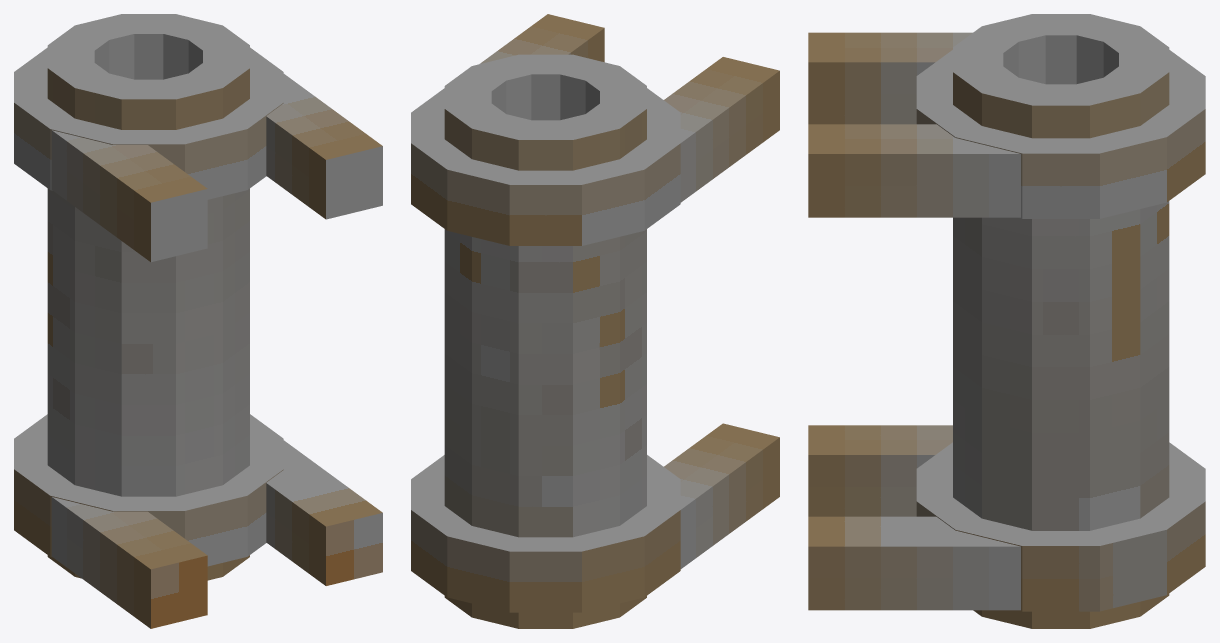
The model's file is paipu.fbx.
3 views of the same model, side by side, from view 1: azimuth 30°, elevation 25°; view 2: azimuth 150°, elevation 25°; view 3: azimuth 270°, elevation 25° (orthographic). The views are drawn at different scales.
Parts seen in each view (by area): view 1: tube, tube_2, tube_1, cuboid_3, cuboid, cuboid_1, cuboid_2; view 2: tube, tube_2, tube_1, cuboid_3, cuboid, cuboid_1; view 3: tube, tube_2, tube_1, cuboid_2, cuboid_1, cuboid, cuboid_3.
Boxes of the visible parts, left/top/right/bottom form: tube: left=47, top=14, right=249, bottom=580; tube_2: left=14, top=414, right=283, bottom=566; tube_1: left=14, top=47, right=283, bottom=199; cuboid_3: left=51, top=497, right=207, bottom=628; cuboid: left=51, top=130, right=207, bottom=262; cuboid_1: left=266, top=74, right=382, bottom=219; cuboid_2: left=266, top=440, right=382, bottom=585; tube: left=444, top=54, right=646, bottom=628; tube_2: left=411, top=455, right=680, bottom=612; tube_1: left=411, top=88, right=680, bottom=245; cuboid_3: left=664, top=423, right=779, bottom=568; cuboid: left=664, top=57, right=779, bottom=202; cuboid_1: left=480, top=14, right=604, bottom=63; tube: left=953, top=14, right=1169, bottom=628; tube_2: left=916, top=442, right=1205, bottom=611; tube_1: left=916, top=50, right=1205, bottom=218; cuboid_2: left=808, top=516, right=1020, bottom=610; cuboid_1: left=808, top=124, right=1020, bottom=217; cuboid: left=808, top=32, right=972, bottom=124; cuboid_3: left=808, top=425, right=952, bottom=516.
Size of the model in its own units: 50 by 100 by 68.75.
